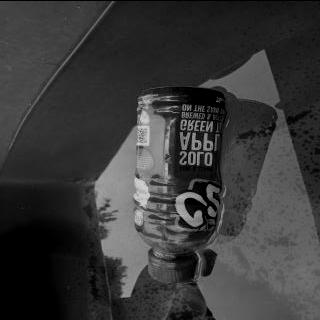bottle: (132, 85, 226, 283)
